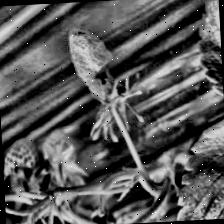Gray Mold: (67, 24, 144, 144)
